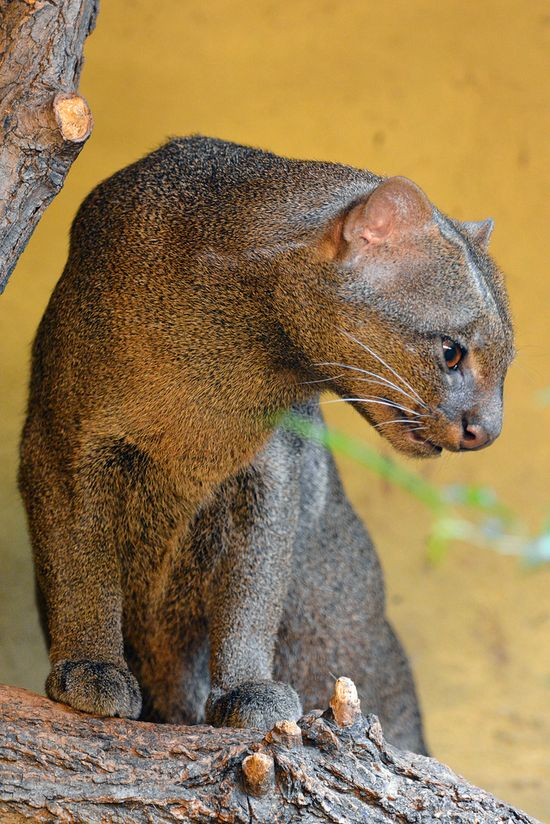Jaguarundi: (14, 120, 525, 731)
